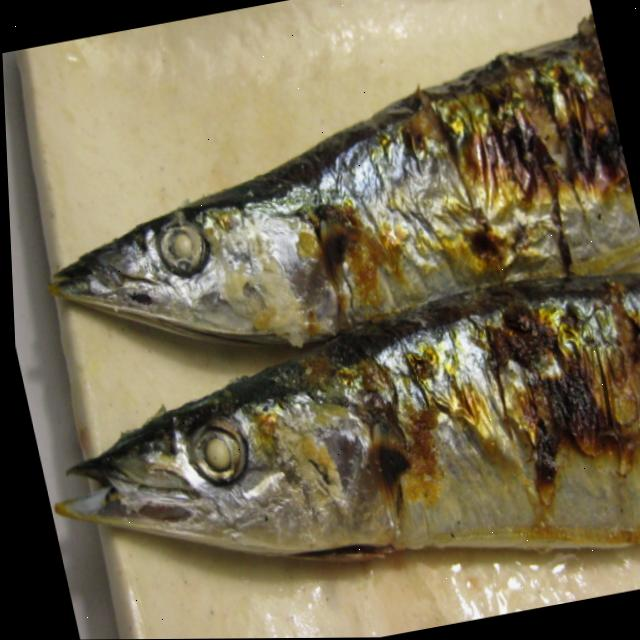熟制海鲜: (42, 0, 529, 640)
